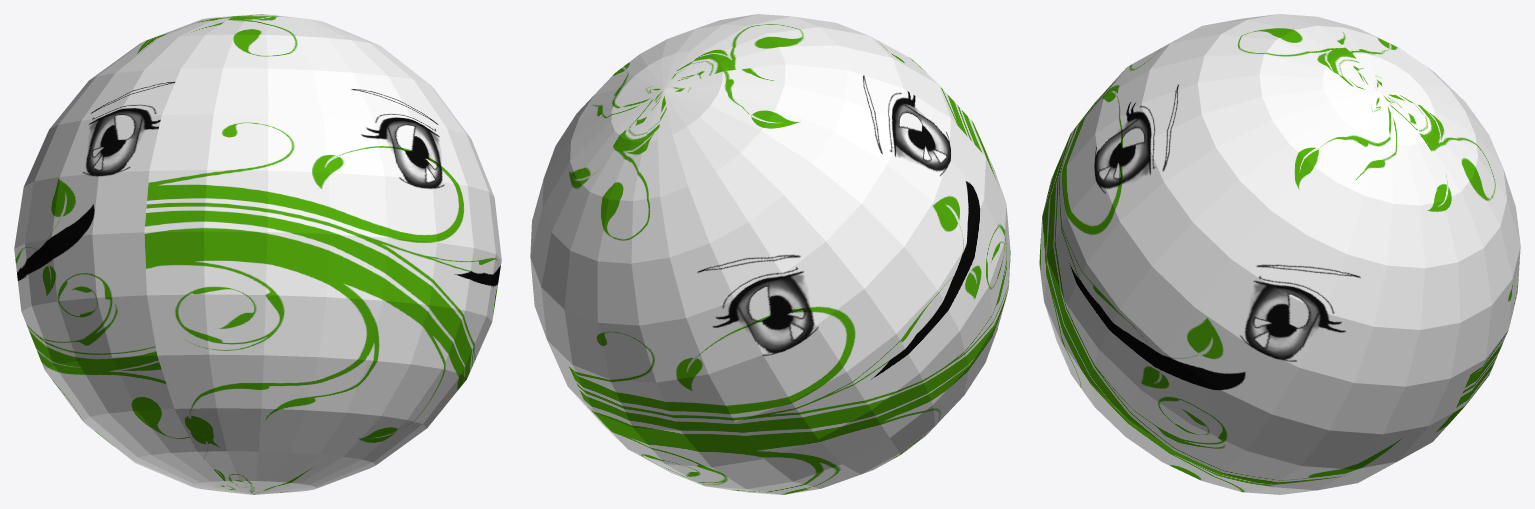
3 renders of one model, left to right at view 1: azimuth 30°, elevation 25°; view 2: azimuth 150°, elevation 25°; view 3: azimuth 270°, elevation 25°, orthographic.
Visible parts, largest first — view 1: Sphere; view 2: Sphere; view 3: Sphere.
Boxes of the visible parts, x1,y1,x2,y2 form: Sphere: [14, 14, 501, 494]; Sphere: [530, 14, 1010, 494]; Sphere: [1039, 14, 1520, 494].
Size of the model in its own units: 199 by 198 by 199.
Materials: 1 (1 with a texture image).
